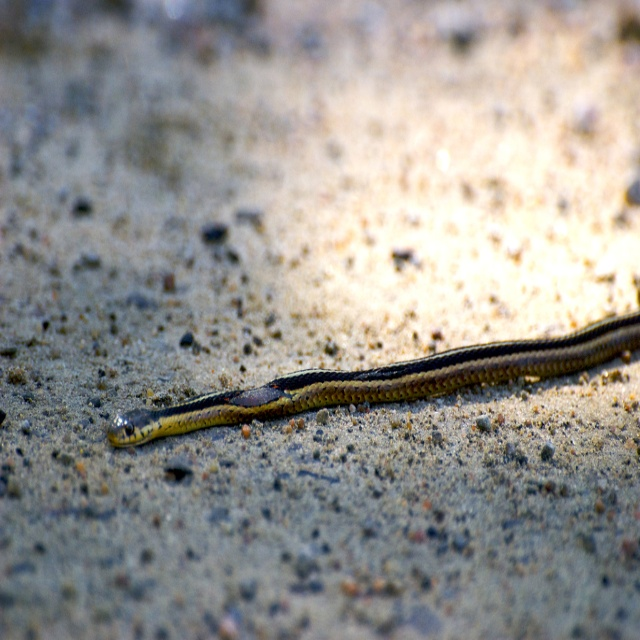Snake: (108, 310, 640, 446)
